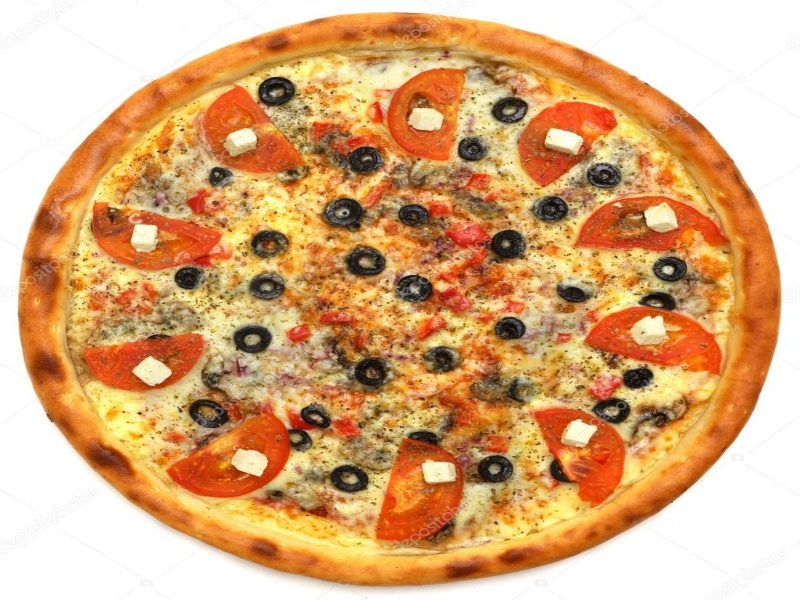olive noir: (472, 445, 519, 485), (324, 196, 371, 232), (328, 465, 374, 499), (481, 227, 527, 261), (397, 268, 438, 306), (393, 193, 435, 229), (532, 191, 575, 225), (181, 403, 237, 429), (344, 245, 389, 277), (258, 72, 298, 108), (588, 394, 634, 425), (492, 91, 530, 127), (352, 354, 393, 386), (247, 228, 292, 257), (579, 161, 625, 189), (235, 322, 271, 354), (351, 146, 387, 176), (650, 260, 697, 282), (300, 399, 335, 428), (250, 275, 286, 302), (491, 312, 524, 341), (175, 259, 201, 291)
